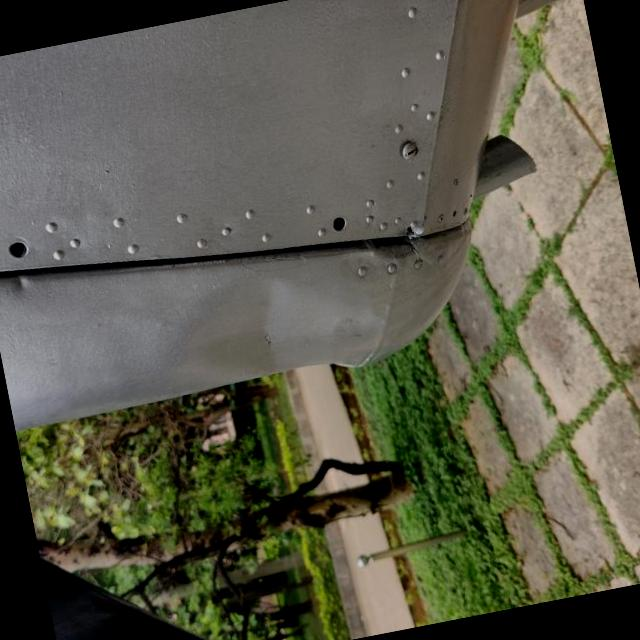Missing Fastener: (6, 239, 28, 258), (331, 214, 347, 230)
dent: (165, 245, 406, 398)
